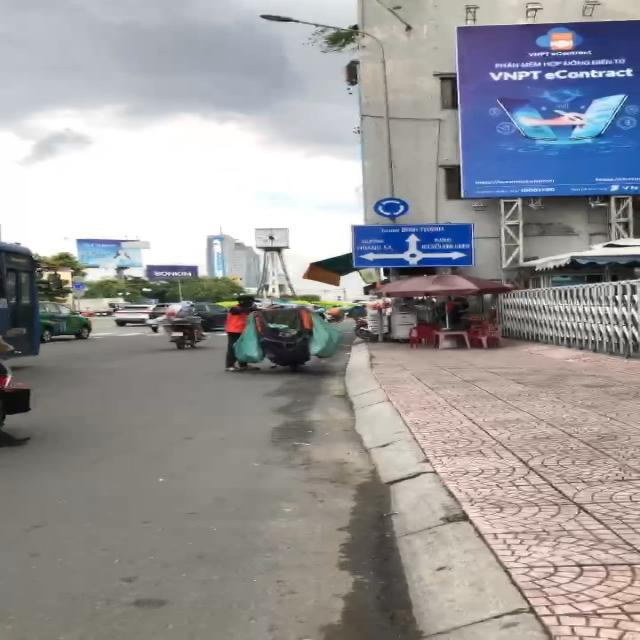Bien bao noi giao nhau chay theo vong xuyen: (370, 198, 418, 218)
